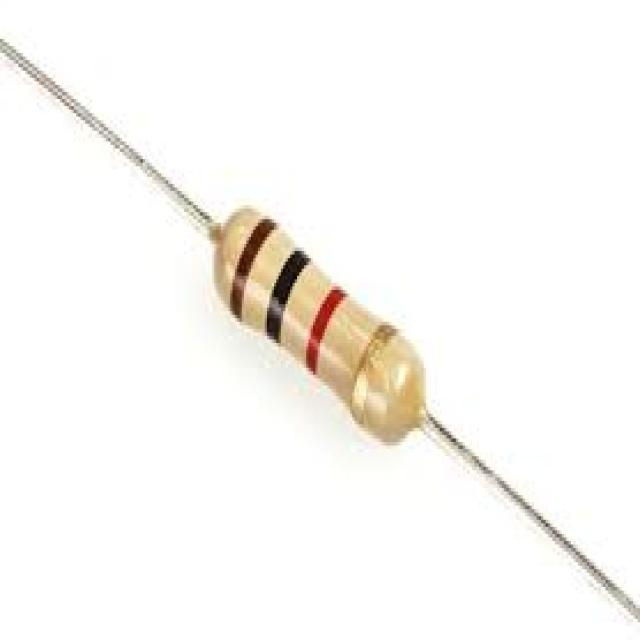Resistor: (214, 209, 424, 442)
black: (265, 241, 315, 346)
brown: (231, 209, 283, 325)
gold: (353, 319, 395, 427)
red: (307, 280, 352, 381)
